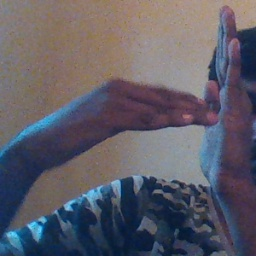Z: (148, 3, 253, 195)
